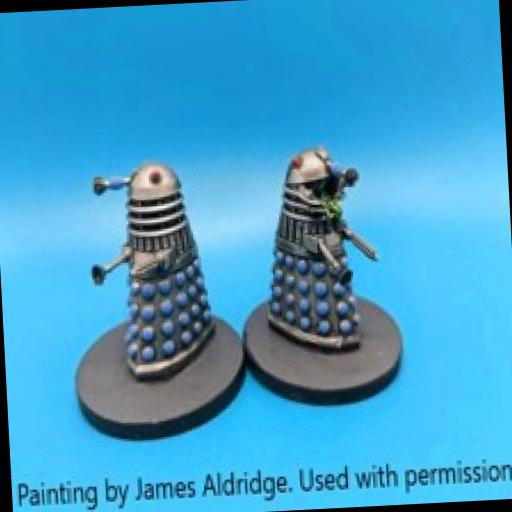dalek: (76, 158, 226, 386), (262, 148, 368, 362)
